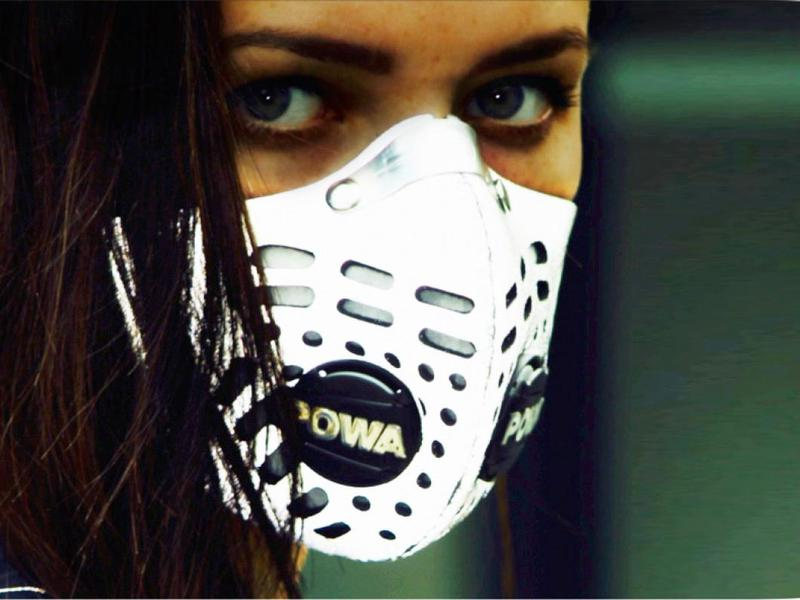with_mask: (126, 1, 600, 569)
